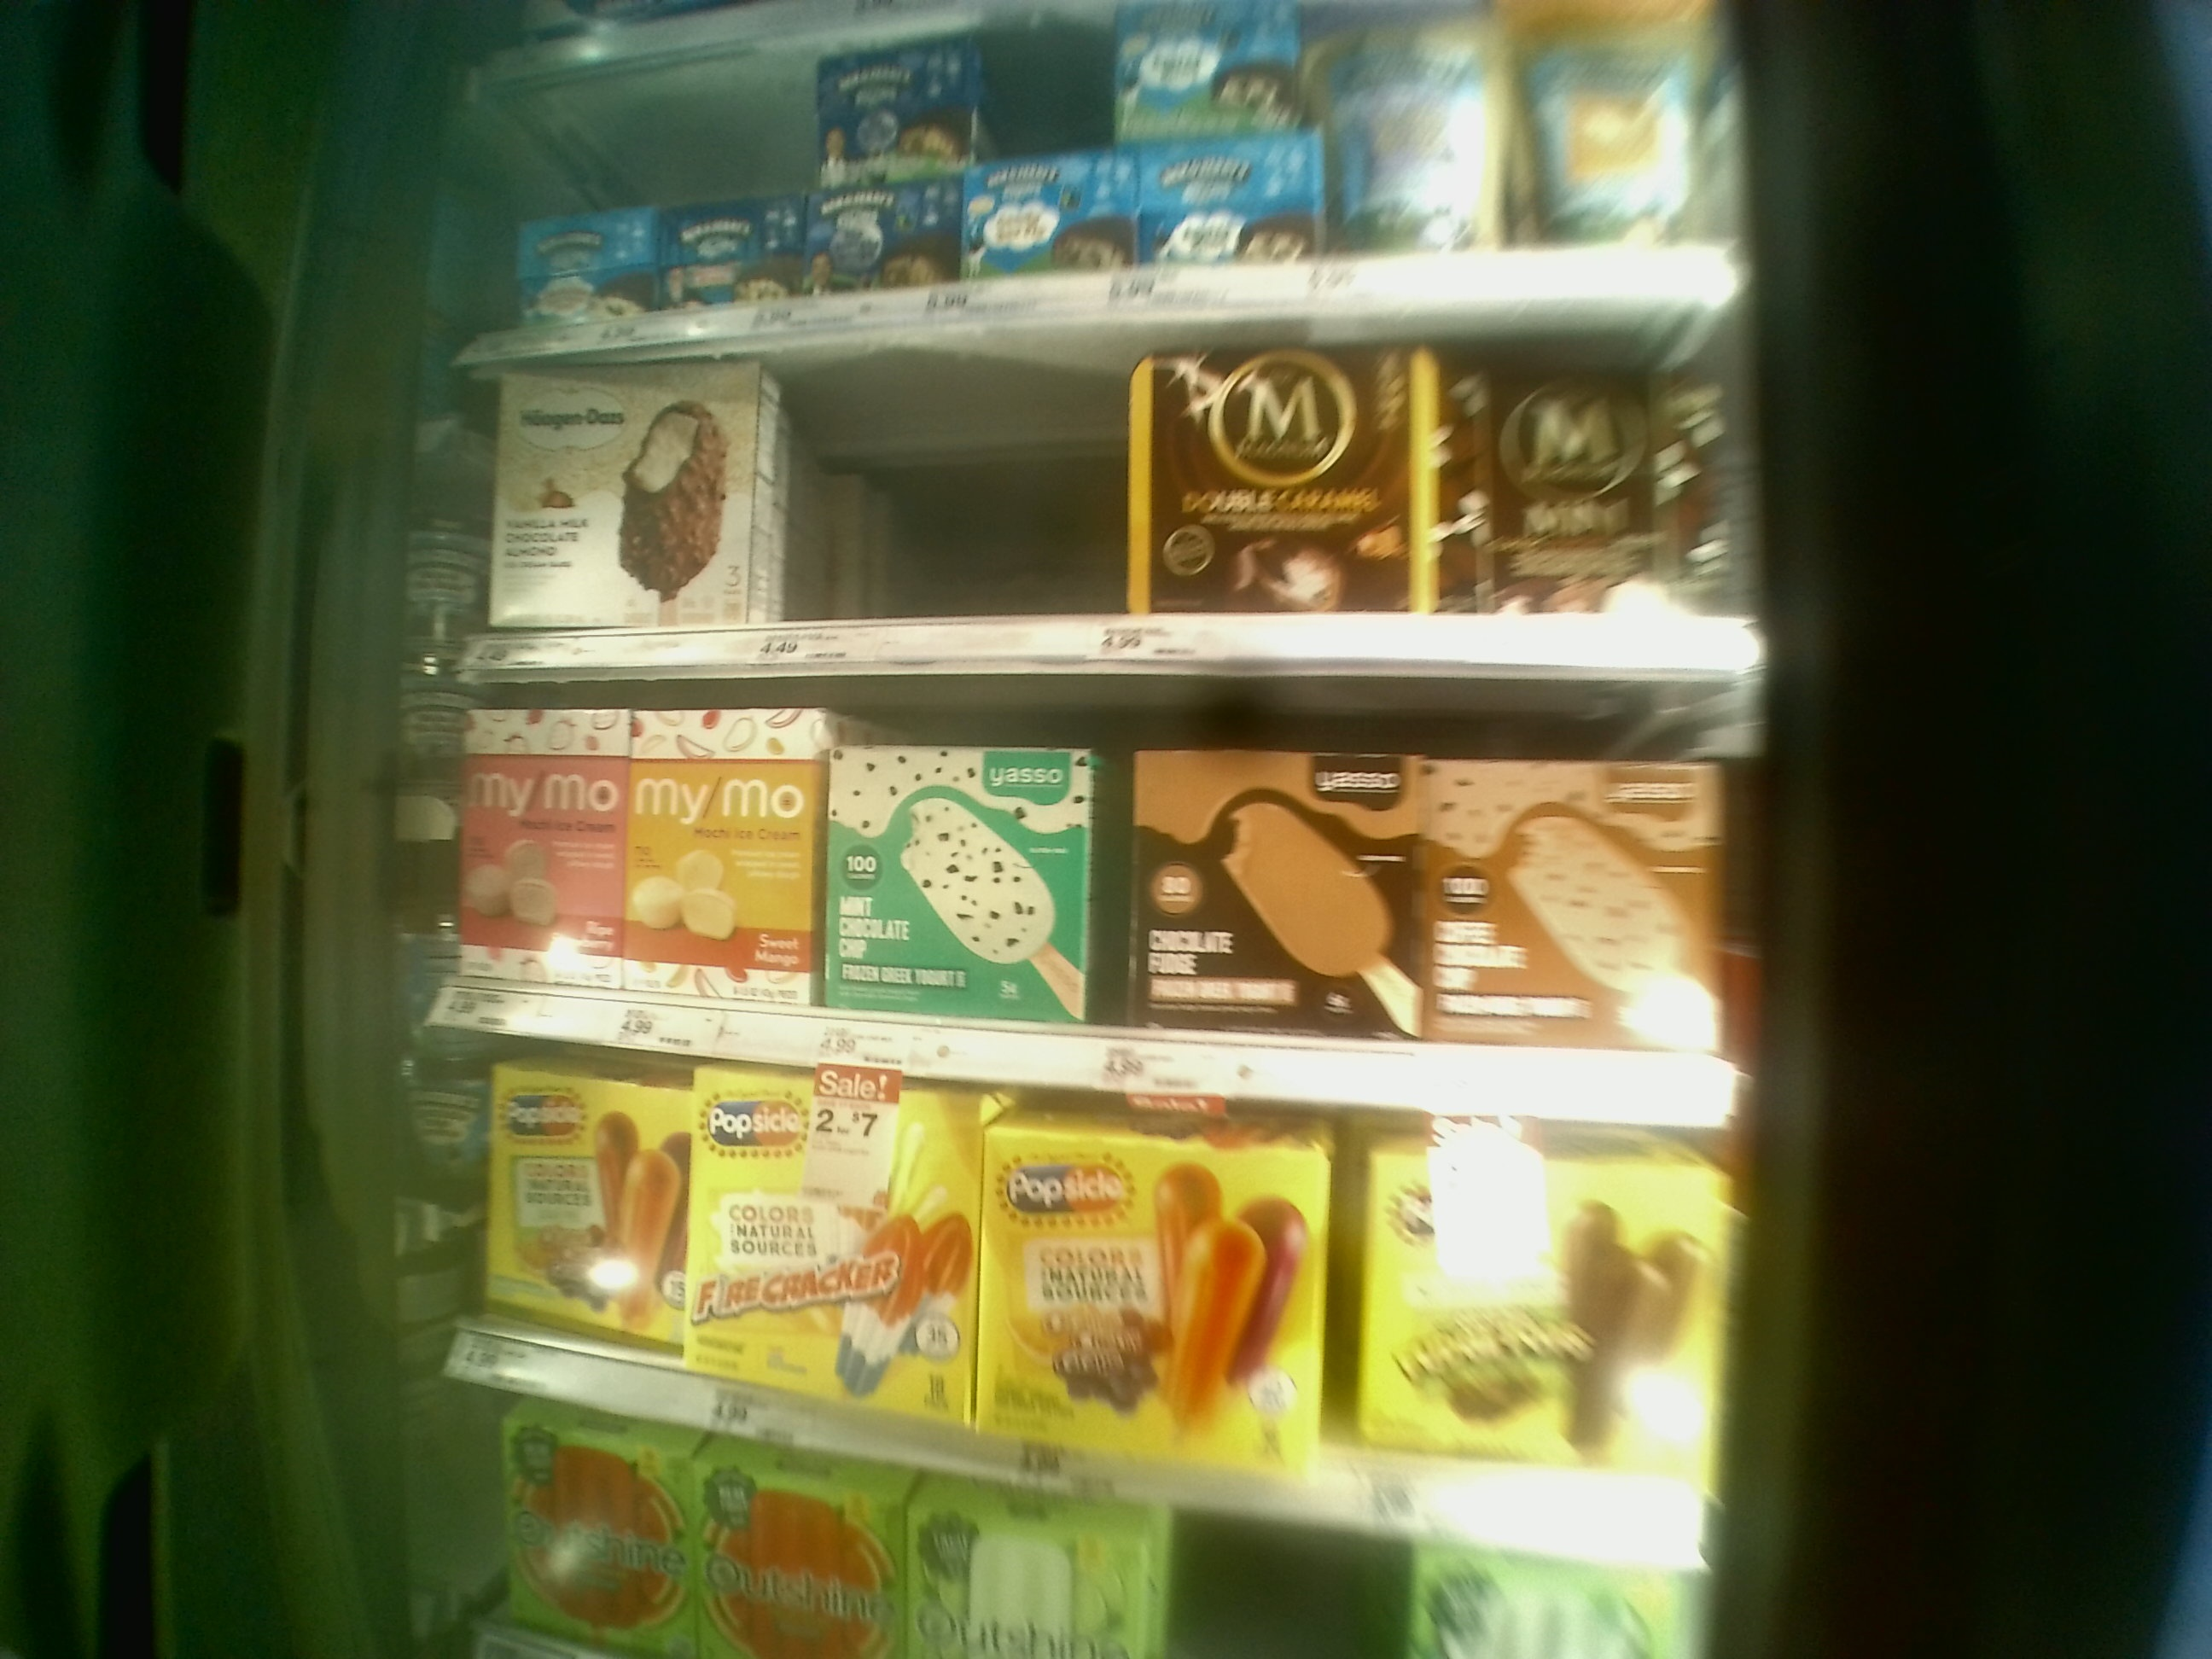ice-cream-shelf: (469, 673, 1747, 1114), (474, 362, 1775, 671)
